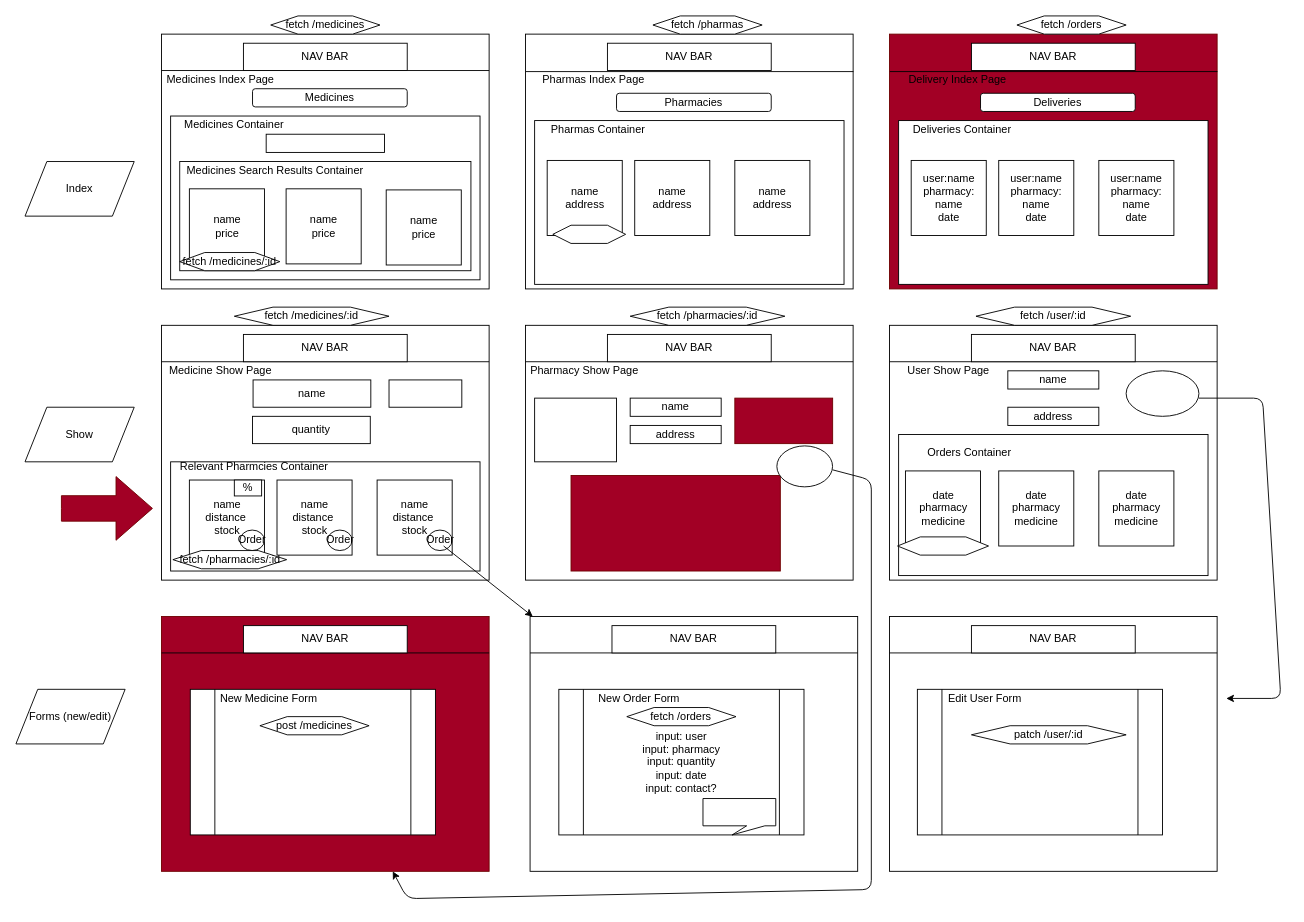
This 1304x922 diagram has some shape labels left out. Here are the shapes that lost their labels. From the top down, the box of each, then its label:
(265, 133, 384, 152): Search Bar
(552, 224, 626, 243): fetch /pharmas/:id
(388, 379, 462, 407): price
(1125, 370, 1199, 416): Edit user info
(534, 397, 617, 462): picture
(734, 397, 833, 444): distance from user
(776, 445, 833, 487): Add Medicine
(61, 476, 152, 540): Stretch-ish
(570, 475, 780, 571): Map that shows distance from user
(897, 536, 989, 555): fetch /orders/:id
(189, 688, 435, 835): input: name input: price input: dosage input: quantity input: phamacy
(916, 688, 1163, 835): input: name input: address
(702, 798, 776, 835): Validation
